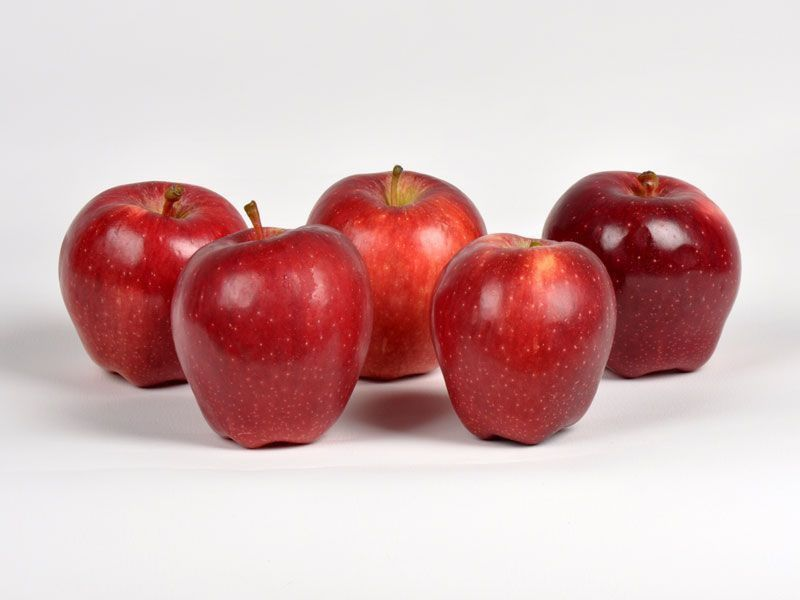elma: (167, 198, 373, 448), (548, 170, 740, 377), (431, 230, 615, 445), (60, 180, 248, 388), (307, 166, 488, 377)
